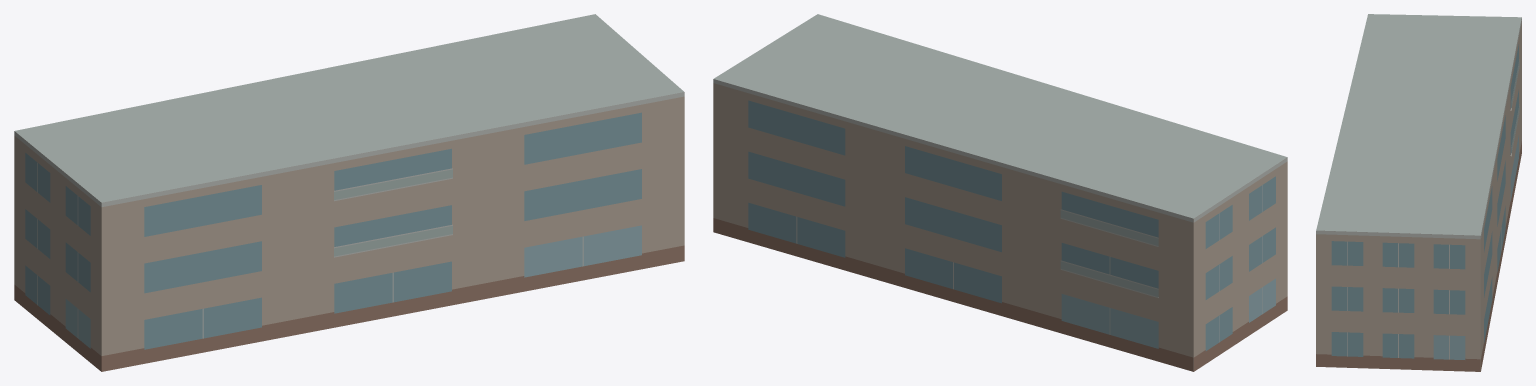
File: survey-upis-32762619.glb
3 views of the same model, side by side, from view 1: azimuth 30°, elevation 25°; view 2: azimuth 150°, elevation 25°; view 3: azimuth 270°, elevation 25° (orthographic). The views are drawn at different scales.
Visible parts, largest first — view 1: survey-upis-32762619.tmp; view 2: survey-upis-32762619.tmp; view 3: survey-upis-32762619.tmp.
Boxes of the visible parts, x1,y1,x2,y2 form: survey-upis-32762619.tmp: (14,14,684,371); survey-upis-32762619.tmp: (713,14,1287,371); survey-upis-32762619.tmp: (1316,14,1521,371).
Bounding box in the file's own units: 31.93 × 9.15 × 12.53.
